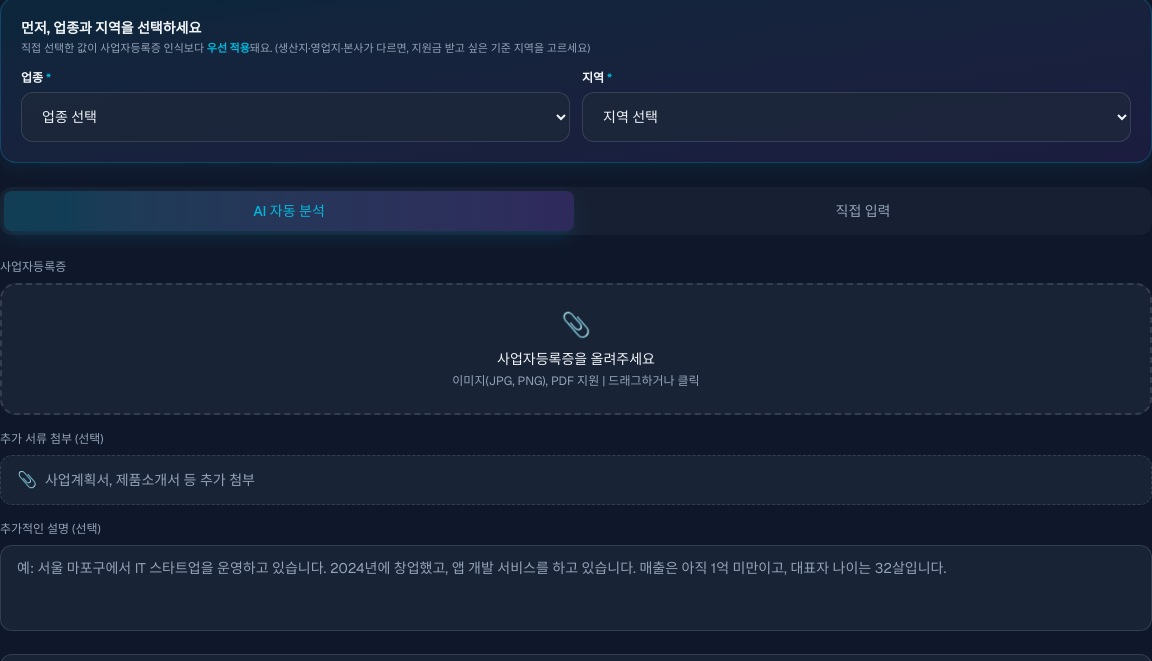
ConditionForm: AI 분석 fetch › 분석 성공 시 AI summary 가 종합 의견에 노출
The image size is (1152, 661).
Replace the text in the text box with placeholder "서울 마포구에서 IT 스타트업" with "테스트" at (576, 588), box top-left (0, 545), bottom-right (1151, 631)
(page scrolled)
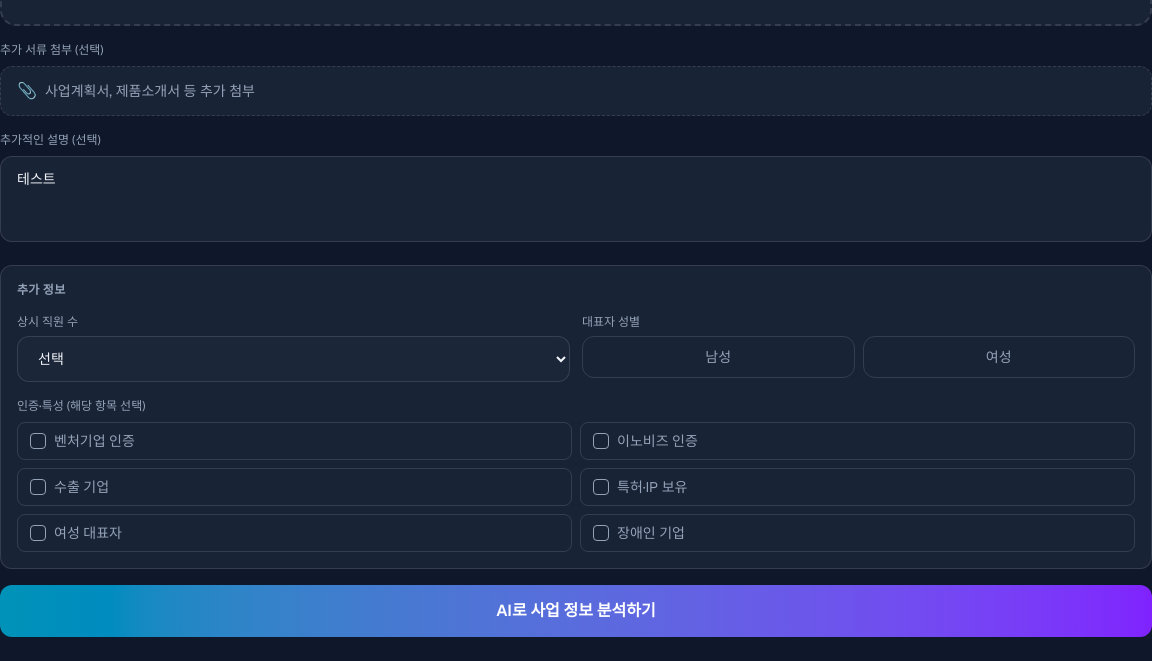
Click the button "AI로 사업 정보 분석하기" at (576, 611), box top-left (0, 585), bottom-right (1151, 637)
(page scrolled)
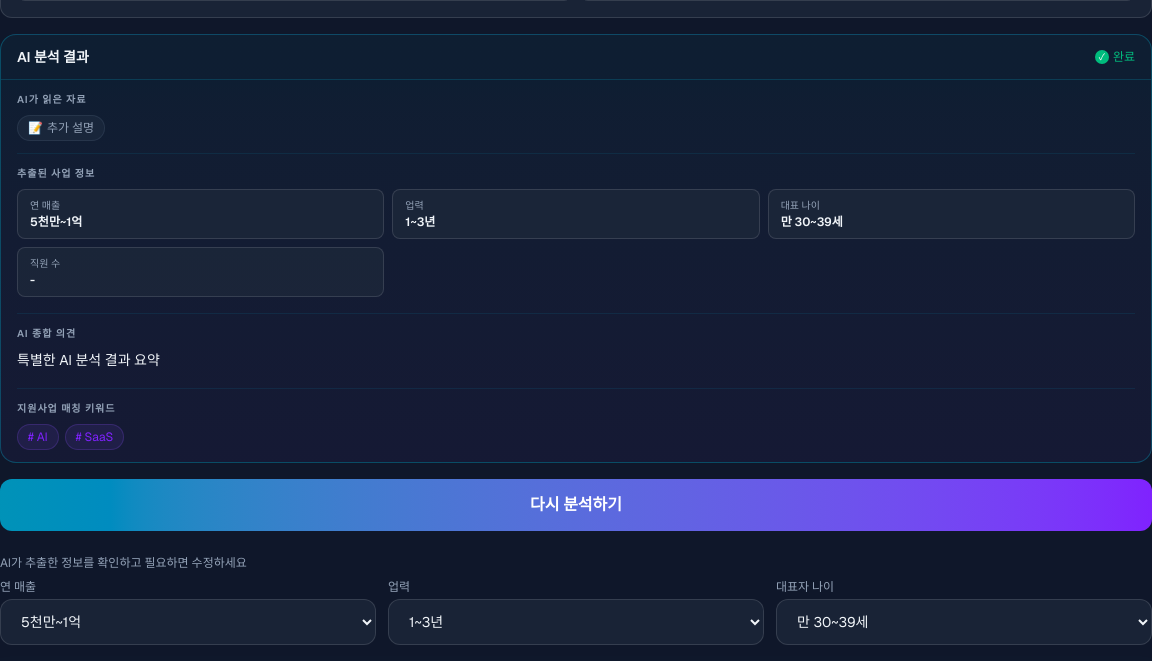
Now the text "특별한 AI 분석 결과 요약" is shown, box top-left (17, 351), bottom-right (160, 369)
